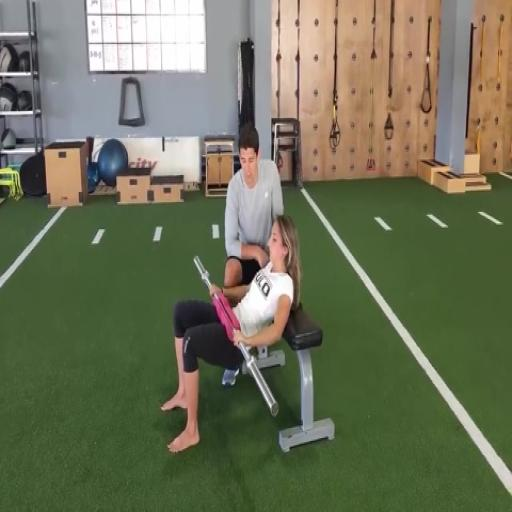exercise: (159, 214, 303, 456), (221, 124, 287, 292)
